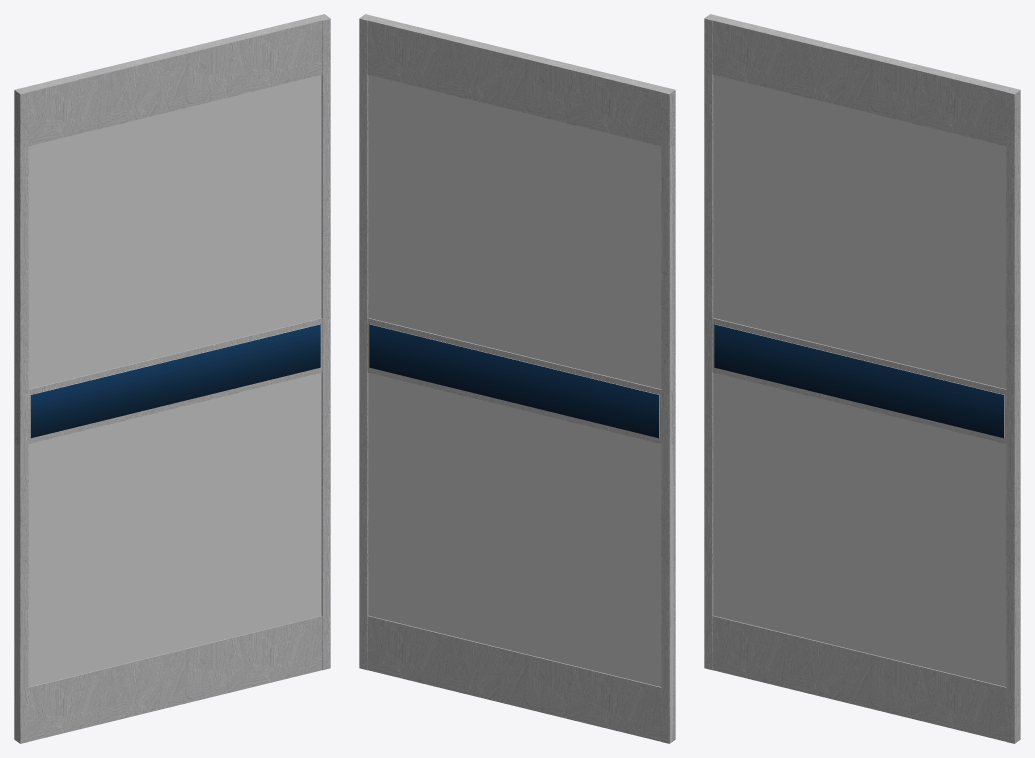
Rendered from ElevatorDoor03.fbx.
3 views of the same model, side by side, from view 1: azimuth 30°, elevation 25°; view 2: azimuth 150°, elevation 25°; view 3: azimuth 330°, elevation 25° (orthographic).
Parts seen in each view (by area): view 1: node_id17 (×4), node_id14, node_id8, node_id11; view 2: node_id17 (×4), node_id14, node_id8, node_id11; view 3: node_id17 (×4), node_id14, node_id11, node_id8.
Boxes of the visible parts, bbox=[...] form: node_id17 (×4): bbox=[14, 14, 330, 742]; node_id14: bbox=[31, 324, 320, 438]; node_id8: bbox=[14, 90, 28, 743]; node_id11: bbox=[321, 18, 330, 670]; node_id17 (×4): bbox=[359, 14, 675, 743]; node_id14: bbox=[369, 324, 658, 438]; node_id8: bbox=[661, 91, 675, 743]; node_id11: bbox=[359, 18, 368, 670]; node_id17 (×4): bbox=[704, 14, 1020, 741]; node_id14: bbox=[714, 324, 1003, 438]; node_id11: bbox=[1006, 90, 1020, 743]; node_id8: bbox=[704, 18, 713, 670].
Bounding box in the file's own units: 0.256 × 0.512 × 0.00922.
10 materials, 6 textured.
